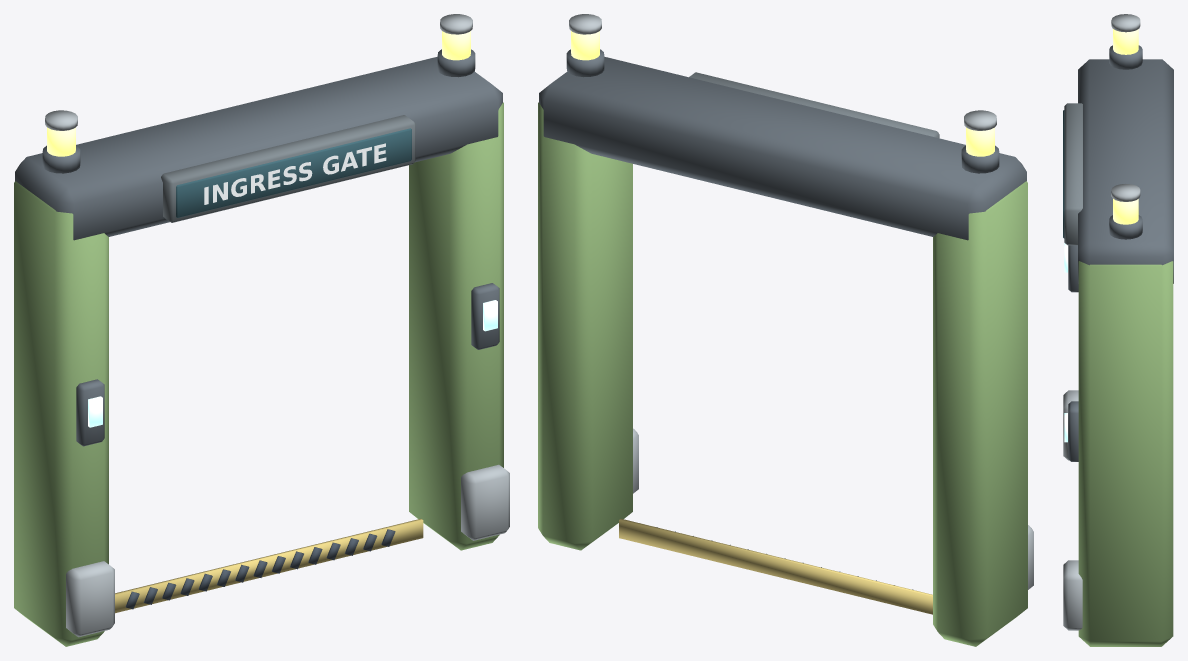
The model's file is ingress_gate_standard.glb.
3 renders of one model, left to right at view 1: azimuth 30°, elevation 25°; view 2: azimuth 150°, elevation 25°; view 3: azimuth 270°, elevation 25°, orthographic. The views are drawn at different scales.
Parts seen in each view (by area): view 1: Pillar_green_legacy_0, Header_dark_legacy_4, Footing_steel_legacy_11, SignPlate_glass, ScreenMount_frame, Detail_yellow_legacy_9, AccessPanel_dark_legacy_12, Detail_black_legacy_10, TypeLabel_white, StatusLight_warn_legacy_2, Beacon_dark_legacy_1, Beacon_steel_legacy_3 (+1 smaller); view 2: Pillar_green_legacy_0, Header_dark_legacy_4, Detail_yellow_legacy_9, ScreenMount_frame, StatusLight_warn_legacy_2, Beacon_dark_legacy_1, Beacon_steel_legacy_3, Footing_steel_legacy_11; view 3: Pillar_green_legacy_0, Header_dark_legacy_4, ScreenMount_frame, Footing_steel_legacy_11, StatusLight_warn_legacy_2, Beacon_dark_legacy_1, AccessPanel_dark_legacy_12, Beacon_steel_legacy_3, SignPlate_glass, StatusLight_glow_legacy_13.
Boxes of the visible parts, box(x1,y1,x2,y2) form: Pillar_green_legacy_0: box(14, 102, 503, 646); Header_dark_legacy_4: box(15, 56, 502, 240); Footing_steel_legacy_11: box(66, 464, 509, 637); SignPlate_glass: box(176, 128, 411, 217); ScreenMount_frame: box(161, 115, 415, 222); Detail_yellow_legacy_9: box(115, 518, 423, 613); AccessPanel_dark_legacy_12: box(76, 283, 499, 446); Detail_black_legacy_10: box(125, 529, 395, 609); TypeLabel_white: box(204, 143, 386, 204); StatusLight_warn_legacy_2: box(47, 31, 470, 156); Beacon_dark_legacy_1: box(42, 49, 475, 173); Beacon_steel_legacy_3: box(45, 14, 472, 130); Pillar_green_legacy_0: box(538, 102, 1027, 646); Header_dark_legacy_4: box(539, 56, 1026, 240); Detail_yellow_legacy_9: box(619, 518, 932, 614); ScreenMount_frame: box(689, 72, 939, 138); StatusLight_warn_legacy_2: box(571, 31, 994, 156); Beacon_dark_legacy_1: box(566, 49, 999, 173); Beacon_steel_legacy_3: box(569, 14, 996, 130); Footing_steel_legacy_11: box(633, 428, 1033, 589); Pillar_green_legacy_0: box(1078, 261, 1173, 646); Header_dark_legacy_4: box(1078, 59, 1173, 283); ScreenMount_frame: box(1064, 103, 1082, 245); Footing_steel_legacy_11: box(1063, 390, 1082, 630); StatusLight_warn_legacy_2: box(1113, 29, 1138, 224); Beacon_dark_legacy_1: box(1109, 45, 1142, 239); AccessPanel_dark_legacy_12: box(1068, 245, 1078, 461); Beacon_steel_legacy_3: box(1111, 14, 1140, 201); SignPlate_glass: box(1063, 110, 1064, 238); StatusLight_glow_legacy_13: box(1064, 243, 1067, 442).
Bounding box in the file's own units: 3.14 × 3.41 × 0.769.
